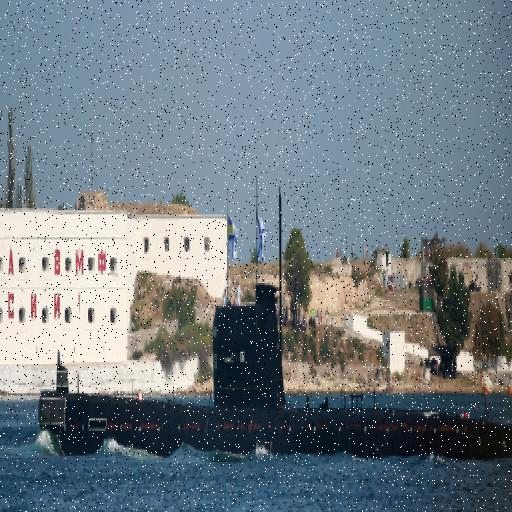submarine: (40, 278, 512, 455)
